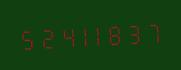eight: (107, 19, 124, 48)
five: (17, 23, 34, 52)
four: (53, 21, 70, 51)
one: (71, 21, 88, 50), (89, 20, 106, 49)
seven: (143, 17, 160, 46)
three: (125, 18, 142, 47)
two: (35, 22, 52, 51)
